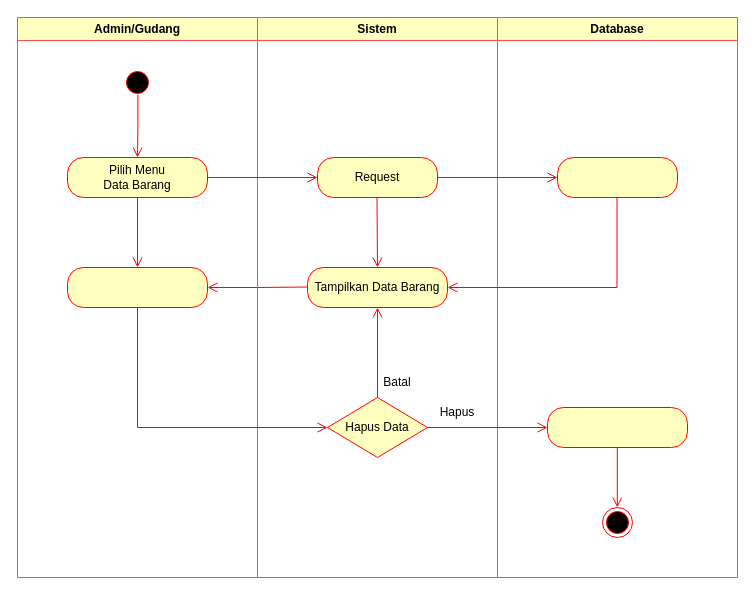
The diagram is 755 pixels wide and 595 high, and some of its shapes have lost their labels. Here are the shapes that lost their labels. From the top down, the centre of each, then its label:
At (617,177): "Eksekusi".
At (137,287): "Delete Data Barang".
At (617,427): "Data Barang Berhasil di Hapus".
